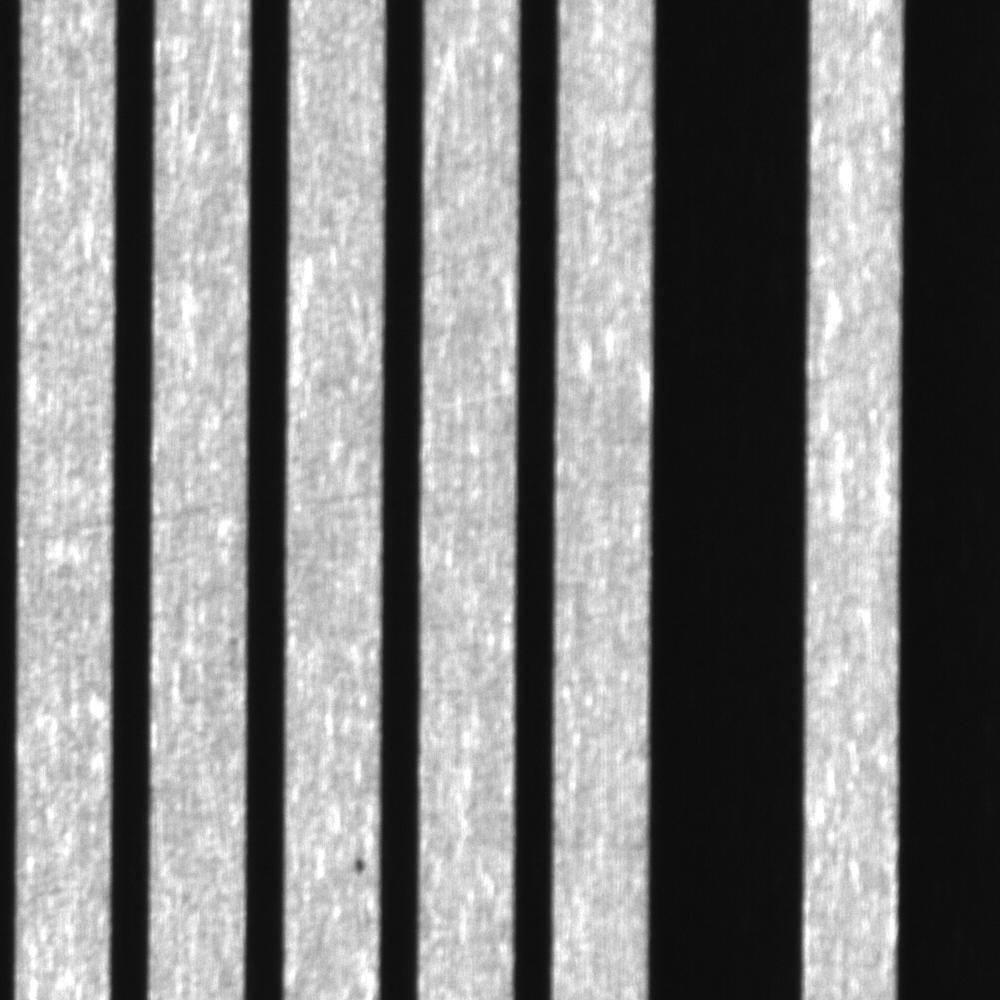Pinhole: (338, 838, 383, 887)
Scar: (560, 170, 660, 231), (421, 231, 520, 284), (152, 484, 246, 535), (292, 477, 380, 519), (430, 380, 524, 417)
